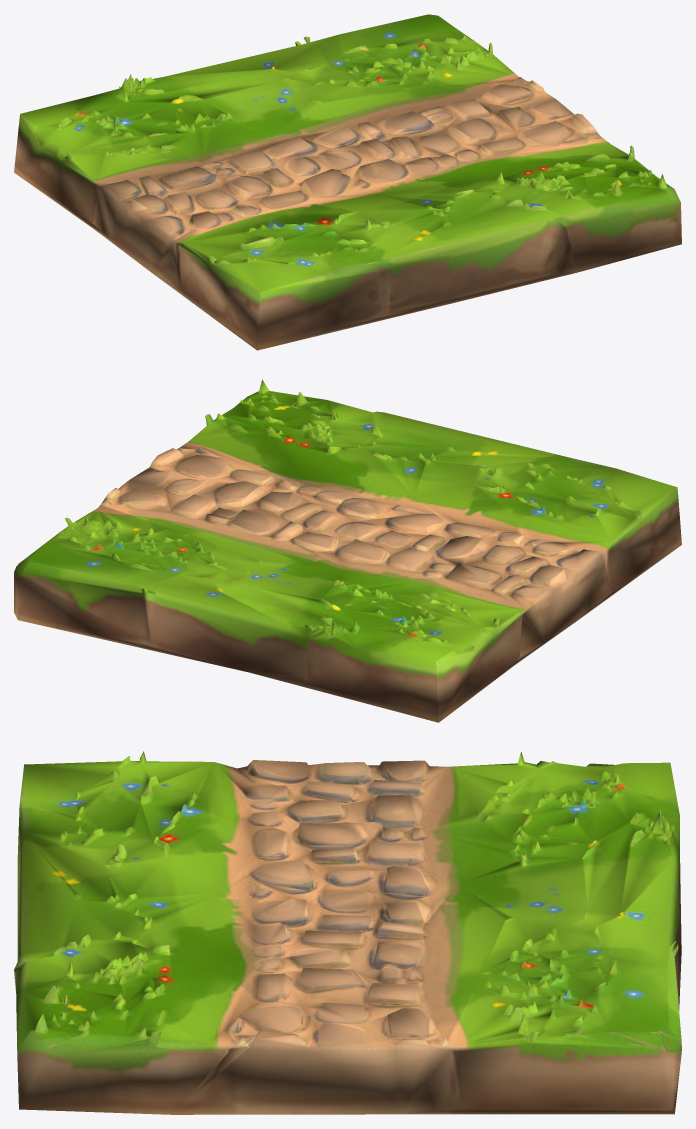
The model's file is path-straight.glb.
3 views of the same model, one above another, from view 1: azimuth 30°, elevation 25°; view 2: azimuth 150°, elevation 25°; view 3: azimuth 270°, elevation 25° (orthographic). The views are drawn at different scales.
Parts seen in each view (by area): view 1: Mesh1.0; view 2: Mesh1.0; view 3: Mesh1.0.
Part boxes in pixels (x1,y1,x2,y2): Mesh1.0: (14, 14, 681, 350); Mesh1.0: (14, 379, 681, 722); Mesh1.0: (14, 751, 681, 1114).
Bounding box in the file's own units: 1.89 × 0.3159 × 1.89.
1 material, 1 textured.
